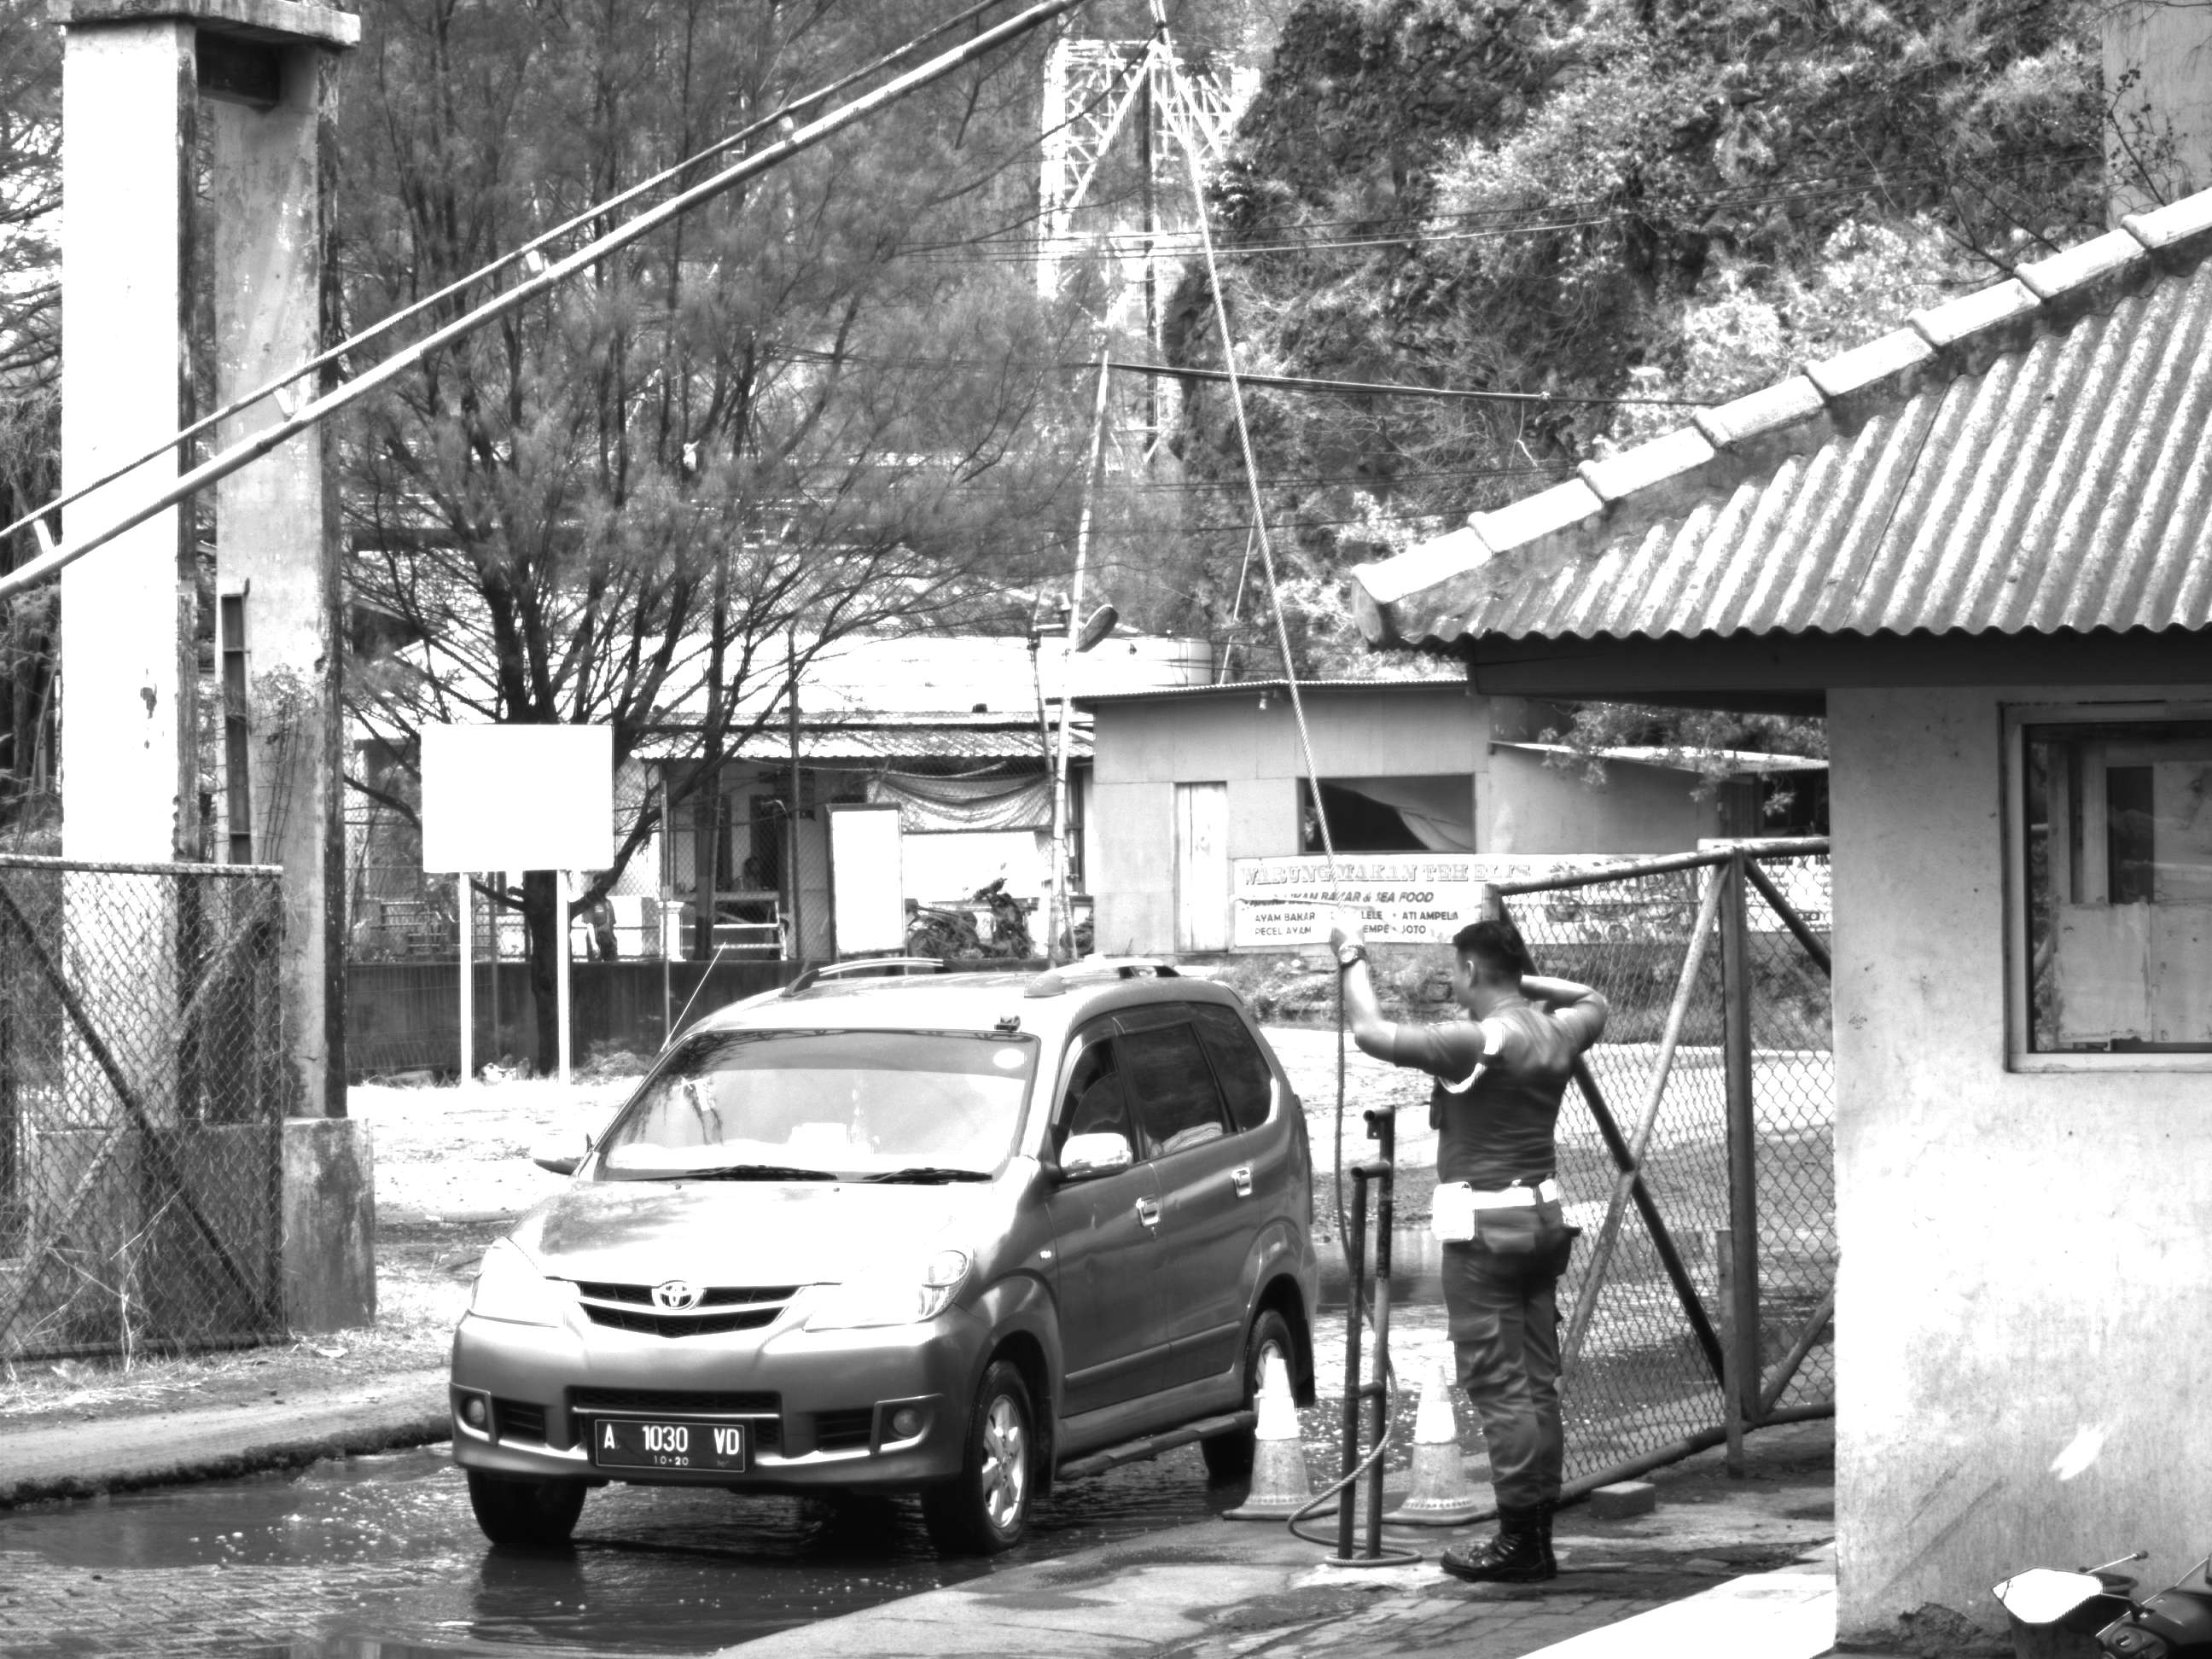day_small_front: (440, 928, 1099, 1570)
plate: (585, 1414, 758, 1475)
